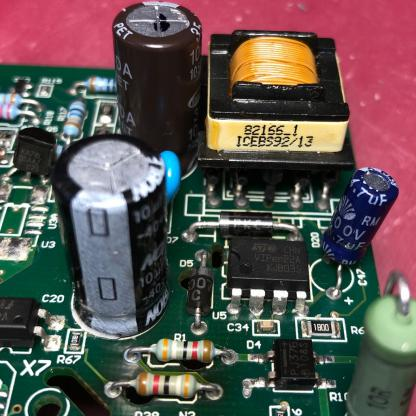Cap4: (51, 136, 175, 346), (111, 0, 205, 183)
Mov: (148, 128, 184, 218)
Resistor: (102, 369, 235, 404), (122, 338, 244, 366), (66, 74, 118, 102), (64, 97, 89, 147), (0, 102, 42, 128), (0, 90, 43, 110)
Transformer: (212, 30, 367, 180)
